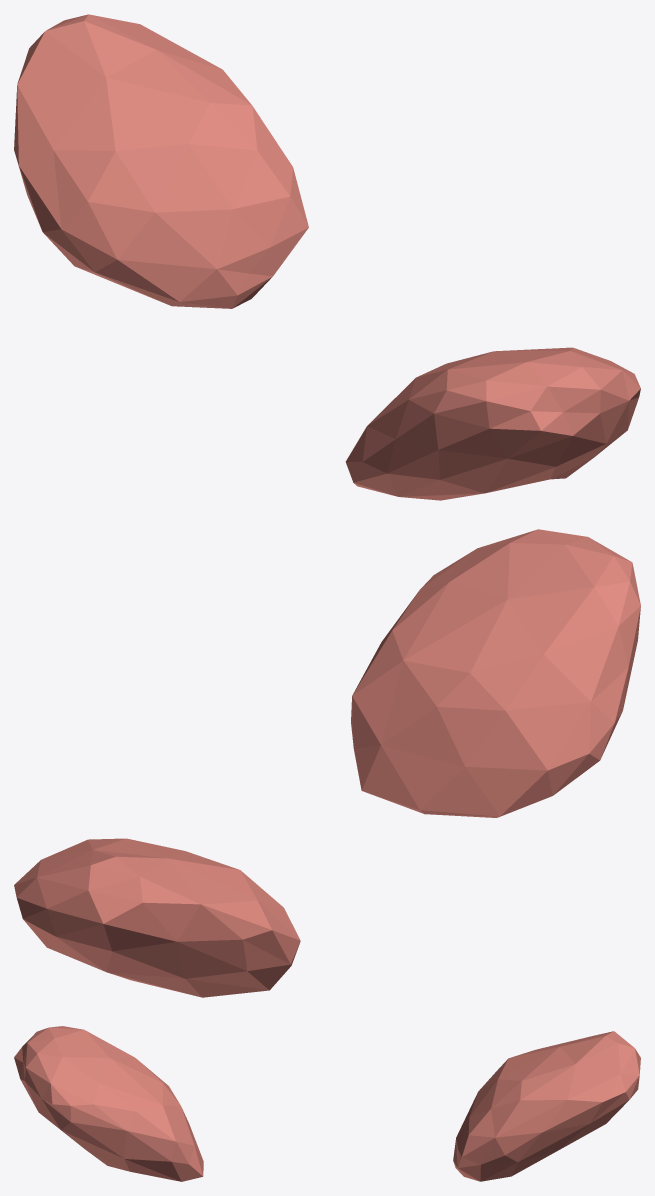
3 views of the same model, one above another, from view 1: azimuth 30°, elevation 25°; view 2: azimuth 150°, elevation 25°; view 3: azimuth 270°, elevation 25° (orthographic). The views are drawn at different scales.
Visible parts, largest first — view 1: 576073699.obj; view 2: 576073699.obj; view 3: 576073699.obj.
Part boxes in pixels (x1,y1,x2,y2): 576073699.obj: [14, 14, 640, 500]; 576073699.obj: [14, 529, 640, 997]; 576073699.obj: [14, 1026, 640, 1181].
Bounding box in the file's own units: 314 × 267 × 1168.
